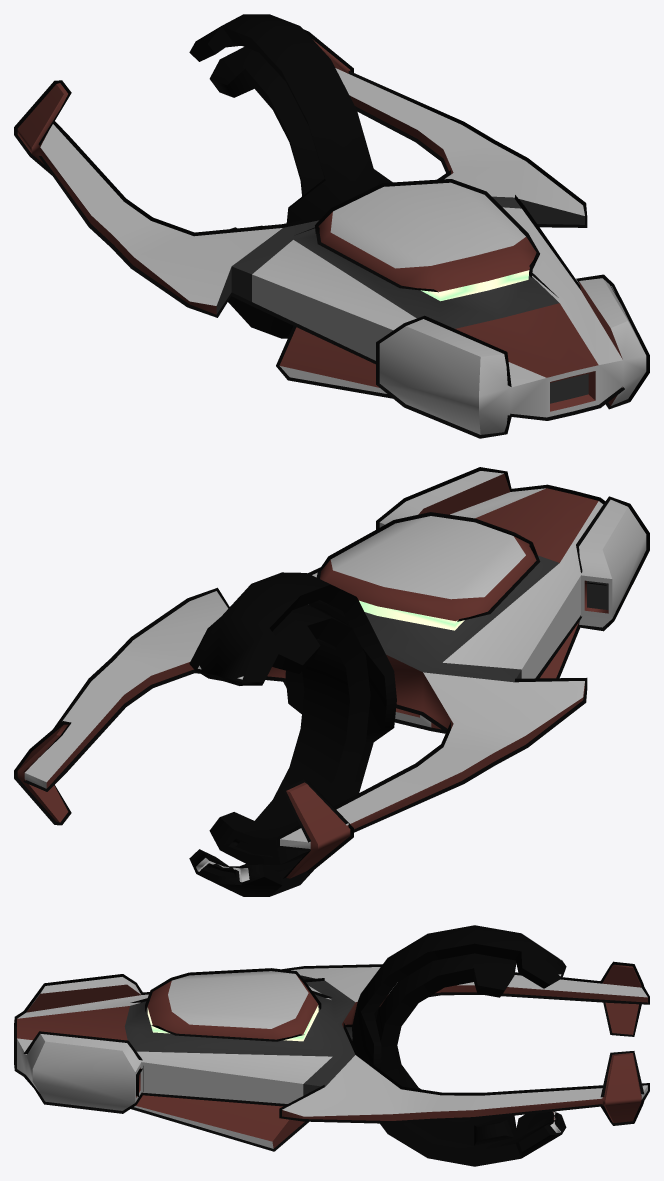
Rendered from RiftPiloteerS4.fbx.
3 renders of one model, top to bottom at view 1: azimuth 30°, elevation 25°; view 2: azimuth 150°, elevation 25°; view 3: azimuth 270°, elevation 25°, orthographic. The views are drawn at different scales.
Visible parts, largest first — view 1: Cube, Cube.001, Cube.002; view 2: Cube, Cube.002, Cube.001; view 3: Cube, Cube.001, Cube.002.
Boxes of the visible parts, x1,y1,x2,y2 form: Cube: (14, 29, 649, 438); Cube.001: (189, 14, 392, 338); Cube.002: (209, 47, 324, 196); Cube: (14, 467, 649, 882); Cube.002: (209, 604, 370, 864); Cube.001: (189, 572, 396, 896); Cube: (14, 961, 649, 1151); Cube.001: (352, 925, 566, 1166); Cube.002: (376, 953, 516, 1145).
Size of the model in its own units: 708 by 509 by 1268.
